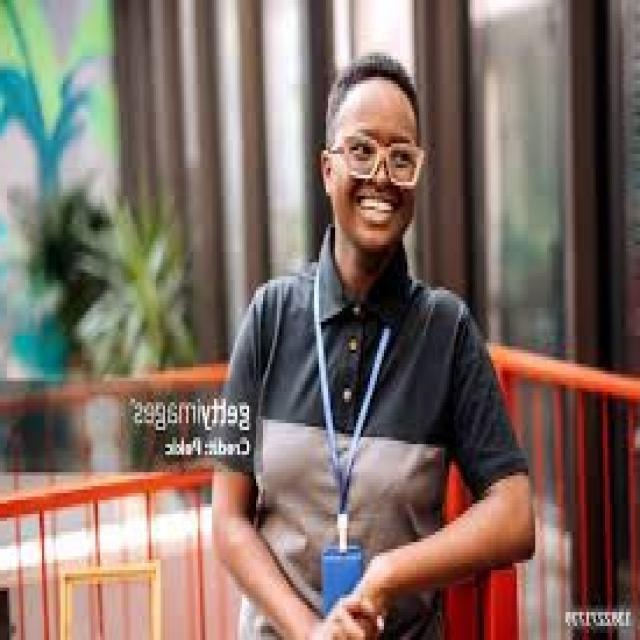ID_card: (306, 335, 397, 561)
